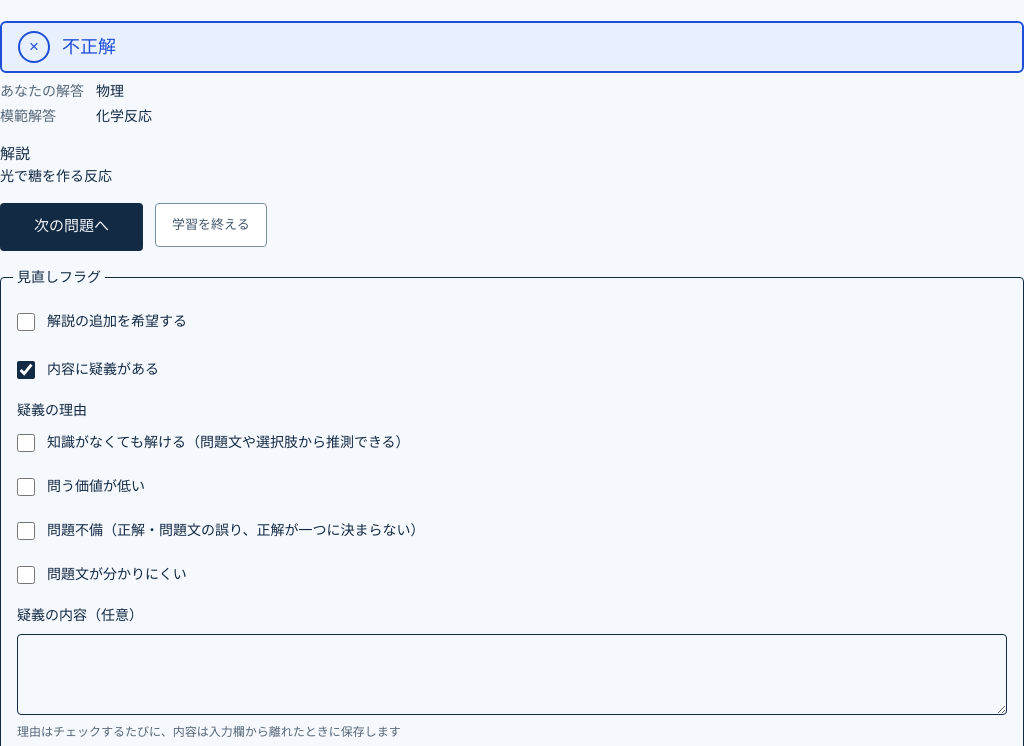
Scenario: QuestionResultPanel › 疑義内容の保存失敗では入力を保持し、競合では再読み込みを促して操作を止める
Type "メモ" into the text box labelled "疑義の内容（任意）" at [512, 674], box x1=17 y1=634 x2=1007 y2=714
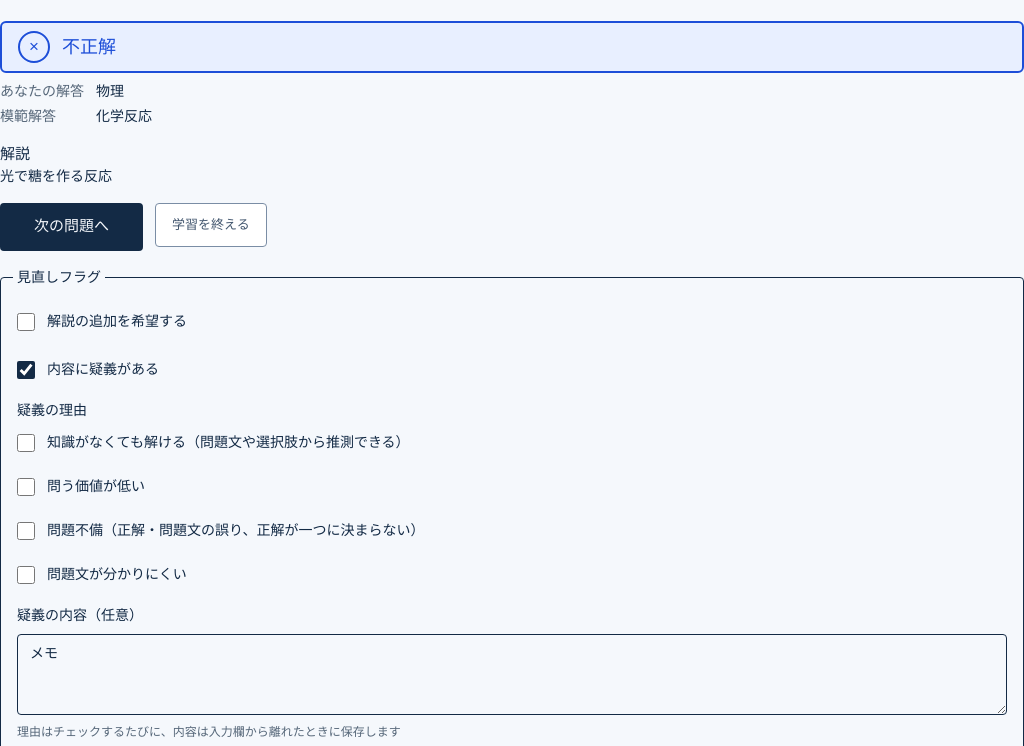
Leave the text box labelled "疑義の内容（任意）", box x1=17 y1=634 x2=1007 y2=714
(page scrolled)
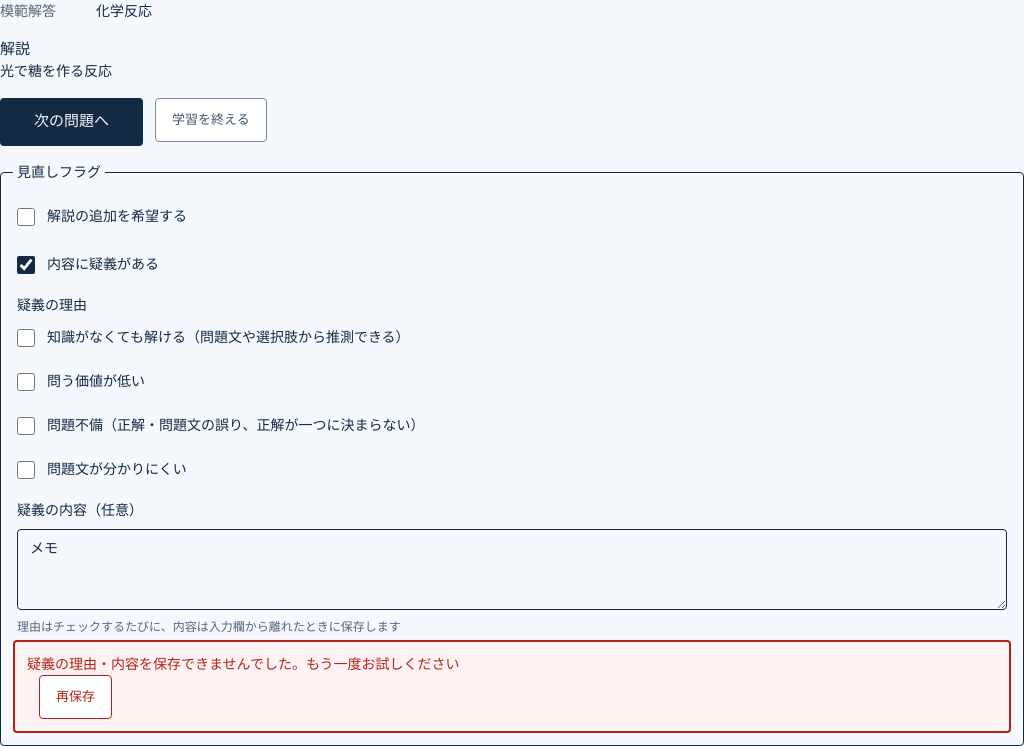
expect the message that starts with "疑義の理由・内容" shows "もう一度": met, box x1=139 y1=656 x2=460 y2=672
Click the button "再保存" at [76, 696], box x1=39 y1=674 x2=112 y2=718
(page scrolled)
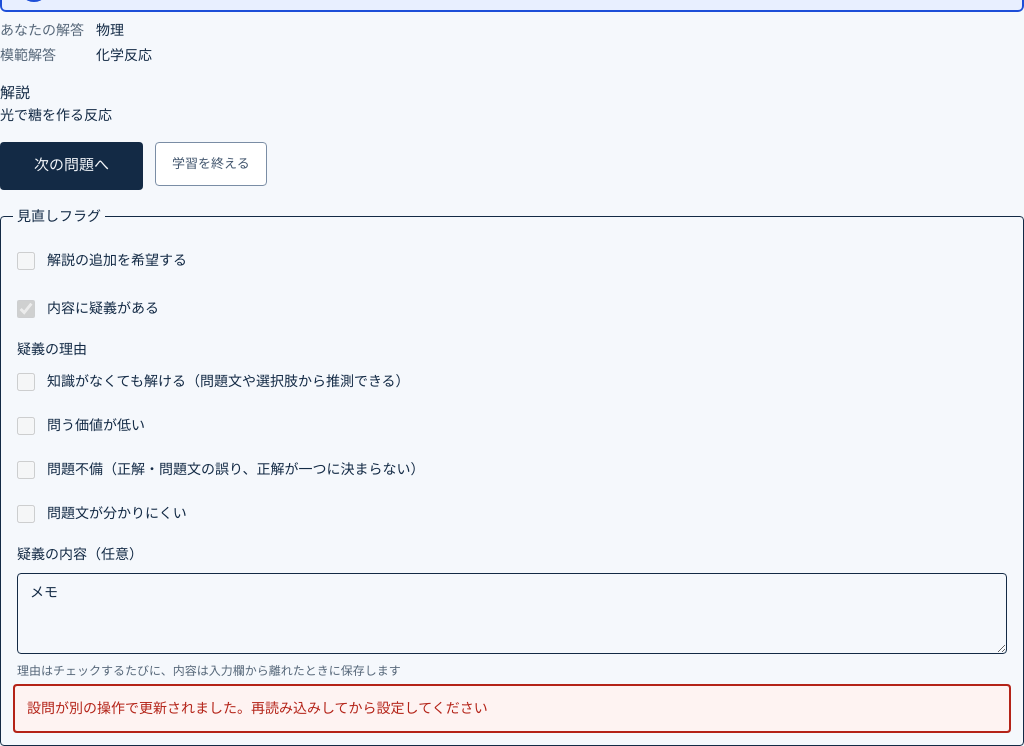
expect the message "設問が別の操作で更新されました。再読み込みしてから設定してください" is shown: met, box x1=13 y1=684 x2=1011 y2=732
expect the text box labelled "疑義の内容（任意）" is disabled: met, box x1=17 y1=572 x2=1007 y2=654
